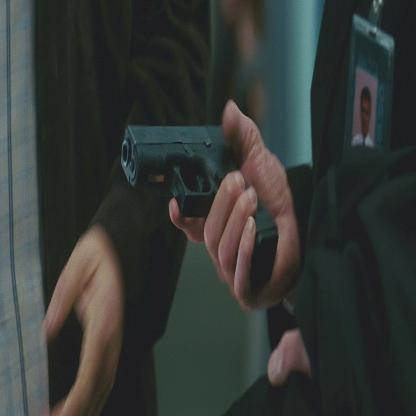gun: (113, 96, 291, 301)
